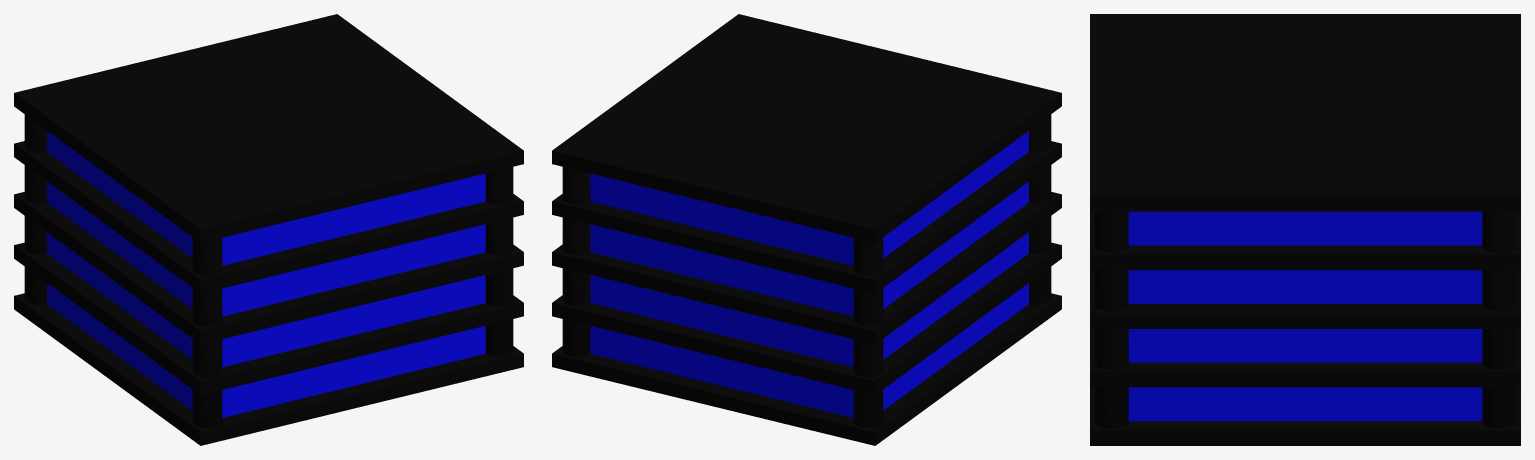
File: BlueCollectable.glb
The picture shows the model from 3 angles, left to right: view 1: azimuth 30°, elevation 25°; view 2: azimuth 150°, elevation 25°; view 3: azimuth 270°, elevation 25°; orthographic projection. The views are drawn at different scales.
Visible parts, largest first — view 1: Cube.002, Cube.003, Cube.001, Cube.004, Cube, Cube.005, Cylinder.002, Cylinder.001, Cylinder.003; view 2: Cube.002, Cube.003, Cube.001, Cube.004, Cube, Cube.005, Cylinder.003, Cylinder, Cylinder.002; view 3: Cube.002, Cube.003, Cube.001, Cube.005, Cube, Cube.004, Cylinder, Cylinder.001.
Part boxes in pixels (x1=…): Cube.002: x1=14, y1=14, x2=523, y2=242; Cube.003: x1=47, y1=131, x2=485, y2=417; Cube.001: x1=14, y1=141, x2=523, y2=293; Cube.004: x1=14, y1=293, x2=523, y2=445; Cube: x1=14, y1=192, x2=523, y2=344; Cube.005: x1=14, y1=242, x2=523, y2=394; Cylinder.002: x1=192, y1=237, x2=222, y2=427; Cylinder.001: x1=485, y1=167, x2=513, y2=356; Cylinder.003: x1=24, y1=114, x2=46, y2=304; Cube.002: x1=552, y1=14, x2=1061, y2=242; Cube.003: x1=590, y1=131, x2=1028, y2=417; Cube.001: x1=552, y1=141, x2=1061, y2=293; Cube.004: x1=552, y1=293, x2=1061, y2=445; Cube: x1=552, y1=192, x2=1061, y2=344; Cube.005: x1=552, y1=242, x2=1061, y2=394; Cylinder.003: x1=853, y1=237, x2=883, y2=427; Cylinder: x1=562, y1=167, x2=590, y2=356; Cylinder.002: x1=1029, y1=114, x2=1051, y2=304; Cube.002: x1=1090, y1=14, x2=1520, y2=211; Cube.003: x1=1128, y1=211, x2=1482, y2=421; Cube.001: x1=1090, y1=211, x2=1520, y2=270; Cube.005: x1=1090, y1=329, x2=1520, y2=387; Cube: x1=1090, y1=270, x2=1520, y2=328; Cube.004: x1=1090, y1=387, x2=1520, y2=445; Cylinder: x1=1482, y1=211, x2=1516, y2=428; Cylinder.001: x1=1094, y1=211, x2=1128, y2=428.
Bounding box in the file's own units: 2 × 1.28 × 2.
